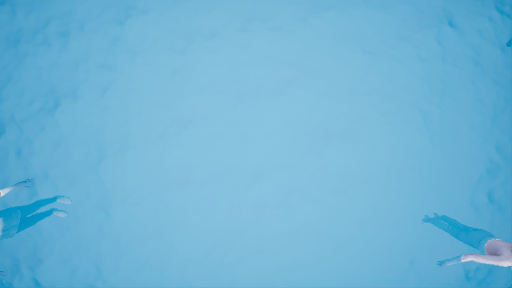person: (427, 211, 512, 279)
